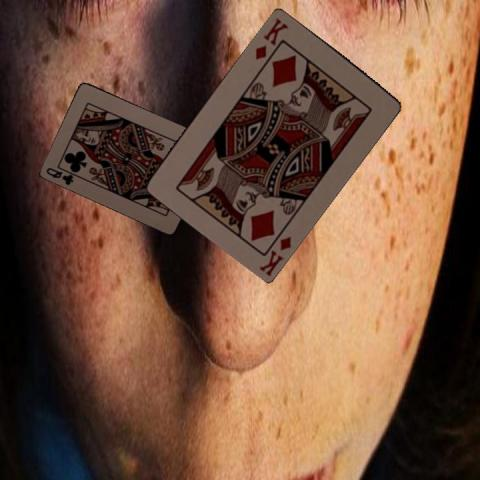Kd: (256, 222, 293, 277), (252, 14, 289, 60)
Qc: (44, 164, 76, 186)
